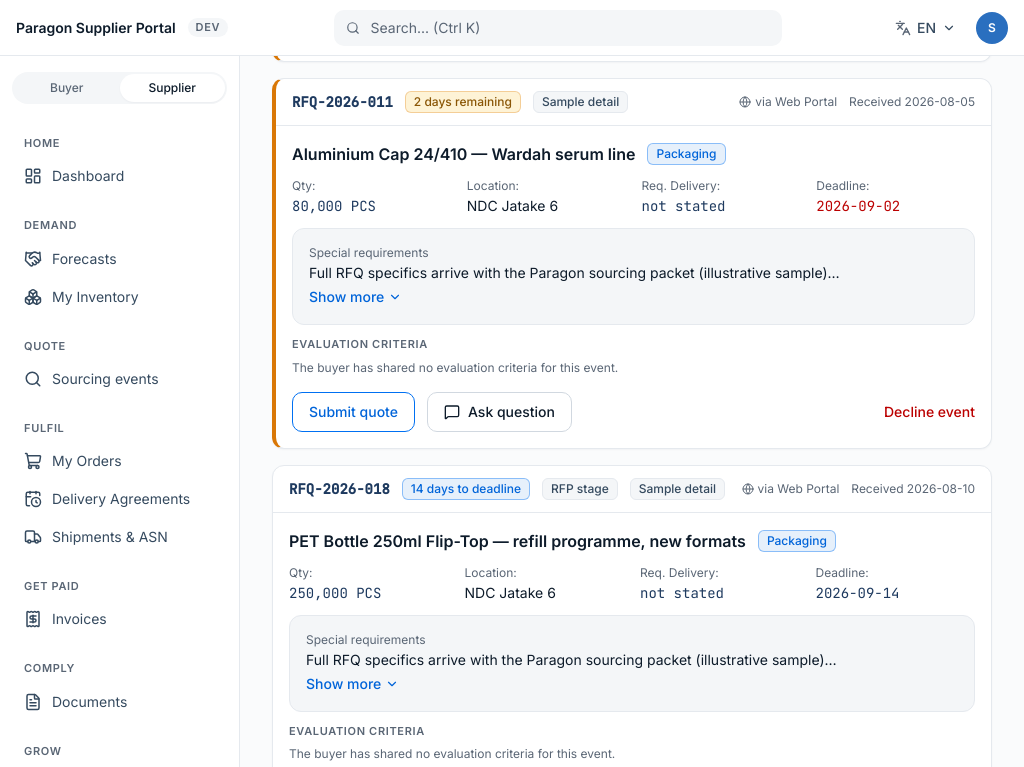
Test case: 5 · a validity that has passed is refused on the field, before the act › an untouched validity does not nag
(page scrolled)
Click the button "Submit quote" at [354, 412], box x1=292 y1=392 x2=415 y2=432
(page scrolled)
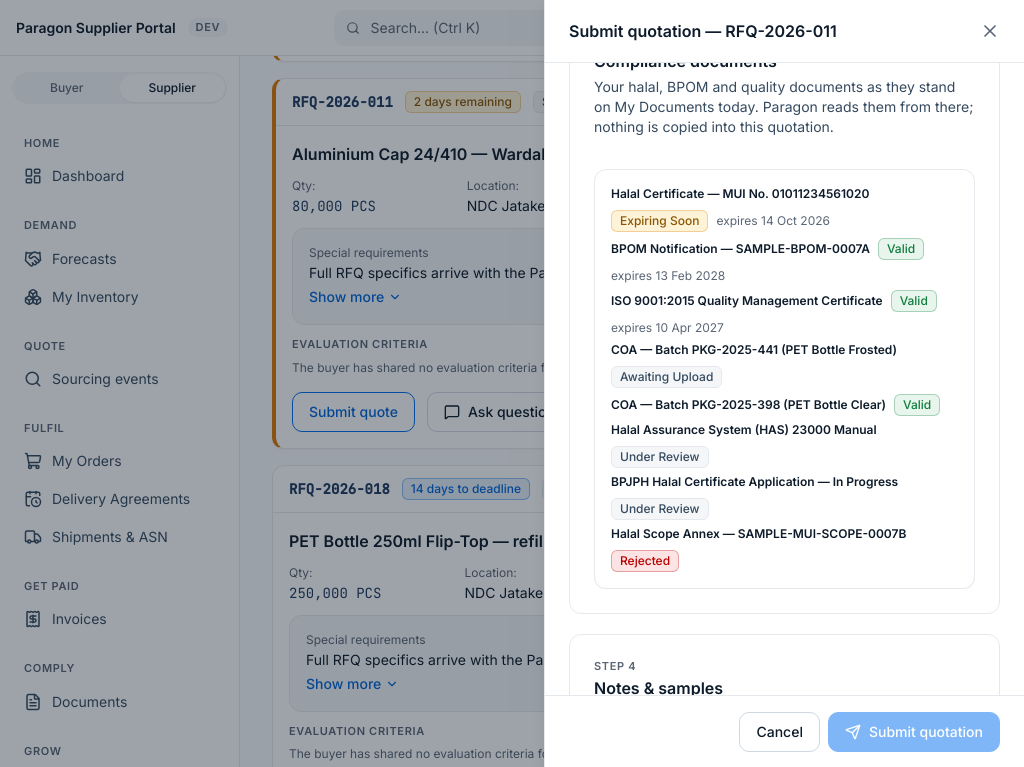
Result: the element with test id "quote-certificates" is shown at x1=594 y1=169 x2=975 y2=589
